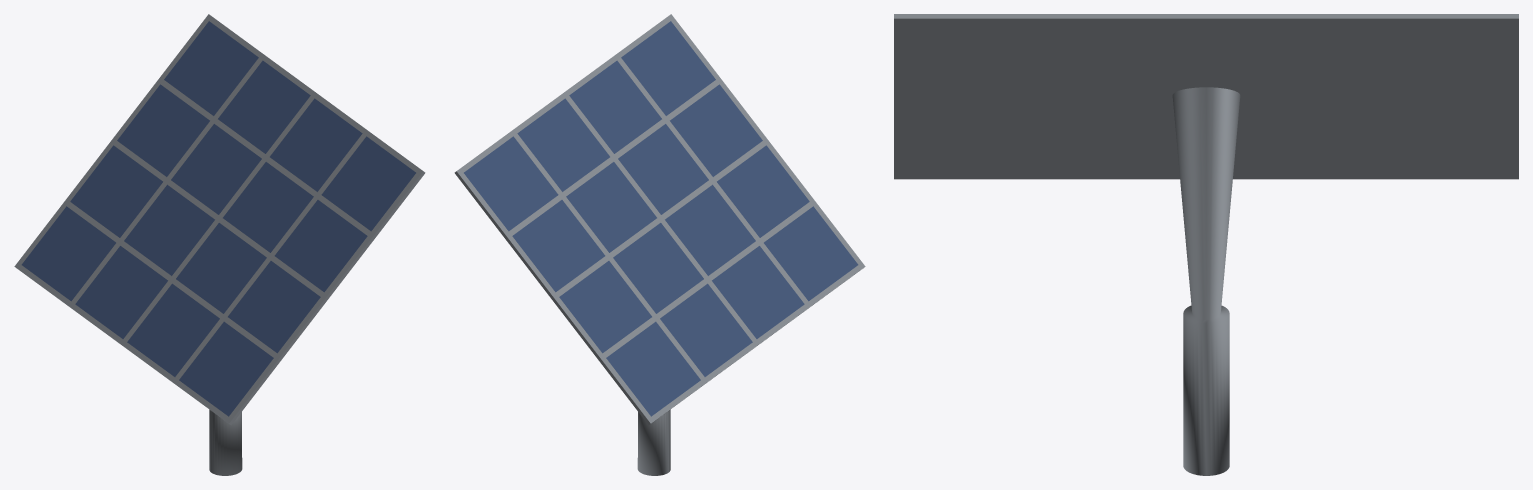
The model's file is solar panel.fbx.
3 renders of one model, left to right at view 1: azimuth 30°, elevation 25°; view 2: azimuth 150°, elevation 25°; view 3: azimuth 270°, elevation 25°, orthographic. The views are drawn at different scales.
Visible parts, largest first — view 1: Cube.362; view 2: Cube.362; view 3: Cube.362.
Part boxes in pixels (x1,y1,x2,y2): Cube.362: (14,14,425,475); Cube.362: (454,14,865,475); Cube.362: (894,14,1518,475).
Bounding box in the file's own units: 244 × 420 × 461.
